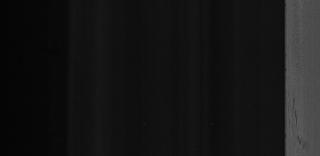silk spot: (288, 98, 316, 156)
